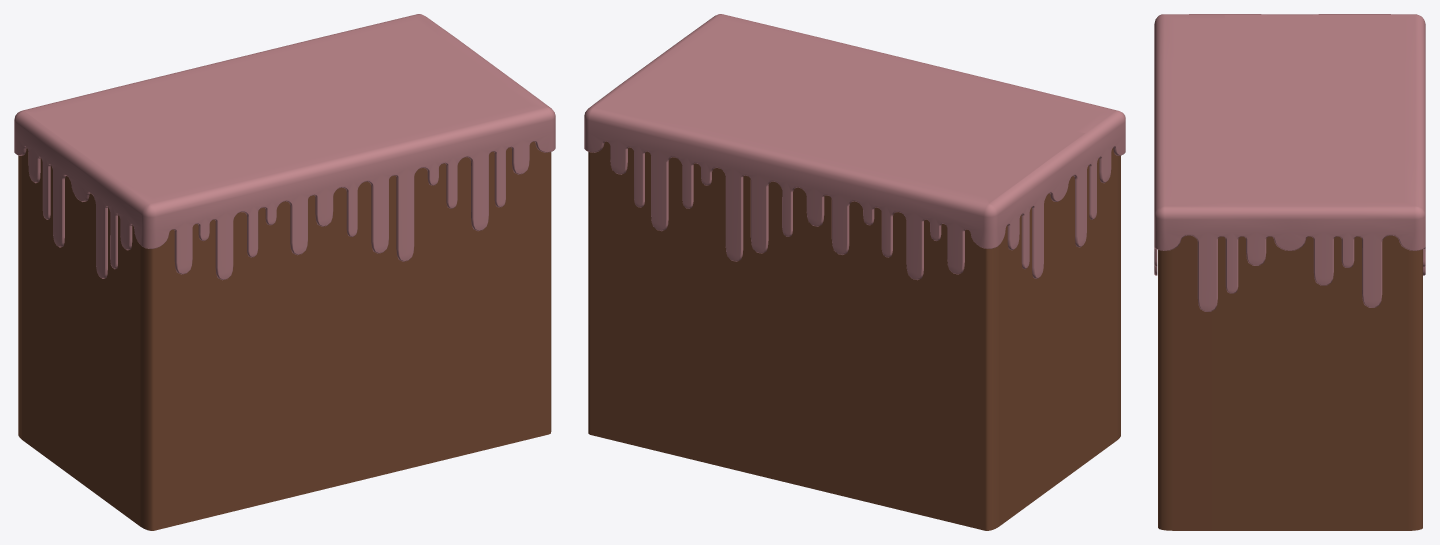
Rendered from SM_Mountain_2.fbx.
3 views of the same model, side by side, from view 1: azimuth 30°, elevation 25°; view 2: azimuth 150°, elevation 25°; view 3: azimuth 270°, elevation 25° (orthographic).
Parts seen in each view (by area): view 1: SM_Mountain2; view 2: SM_Mountain2; view 3: SM_Mountain2.
Boxes of the visible parts, left/top/right/bottom form: SM_Mountain2: left=14, top=14, right=555, bottom=530; SM_Mountain2: left=584, top=14, right=1125, bottom=530; SM_Mountain2: left=1154, top=14, right=1425, bottom=530.
Bounding box in the file's own units: 4452 × 3349 × 2559.
